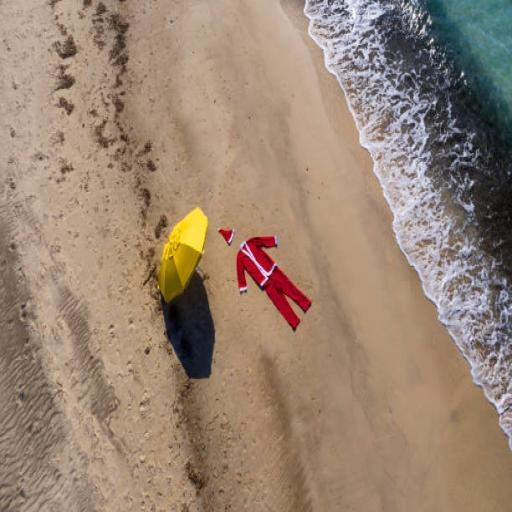guarda_chuva: (158, 205, 208, 303)
